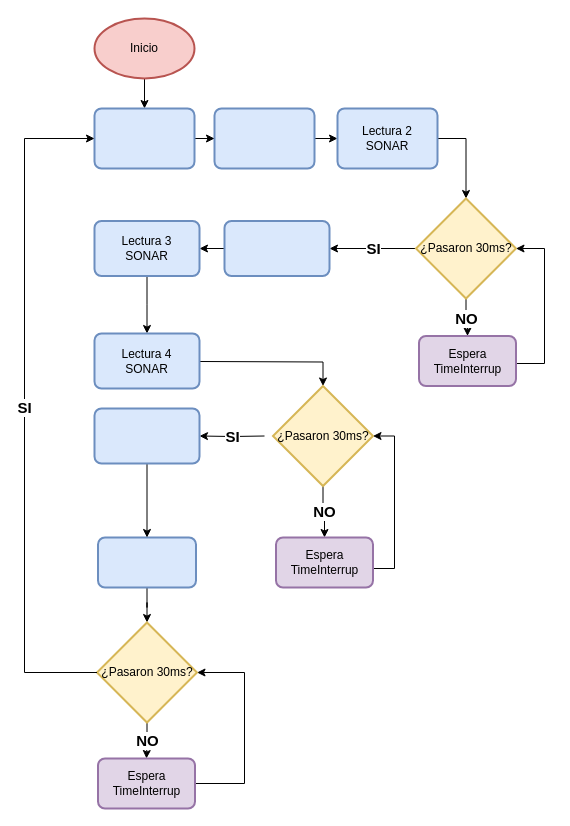
Image size: 570x826. Some labels were removed from this diagram. Here are the shapes that lost their labels. From the top down, the centre of each, then its label:
(144,138): Lectura 1 LIDAR
(264,138): Lectura 1 SONAR
(276,248): Lectura 2 LIDAR
(146,435): Lectura 3 LIDAR
(146,562): Empaquetar Enviar Mover Motor
